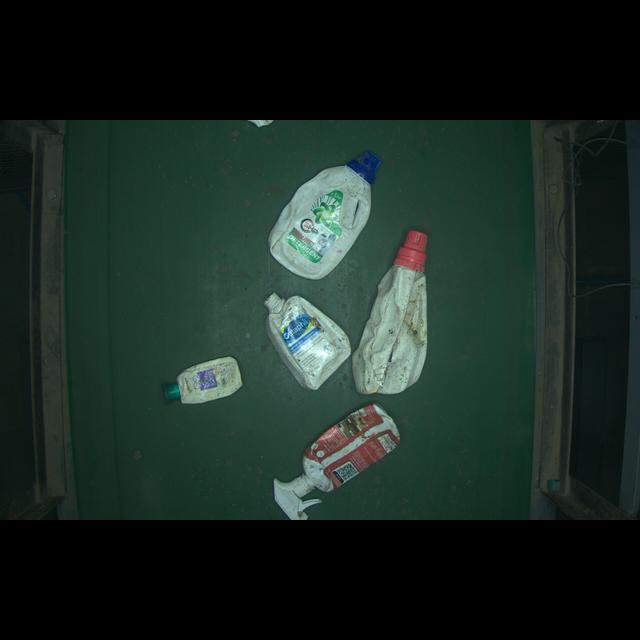mix PET: (263, 393, 424, 541), (263, 141, 379, 286), (361, 219, 432, 400), (259, 279, 363, 398), (158, 357, 247, 406)
